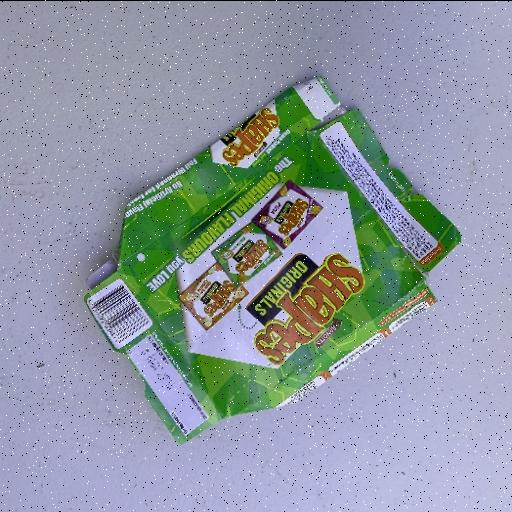Cardboard: (82, 74, 462, 446)
